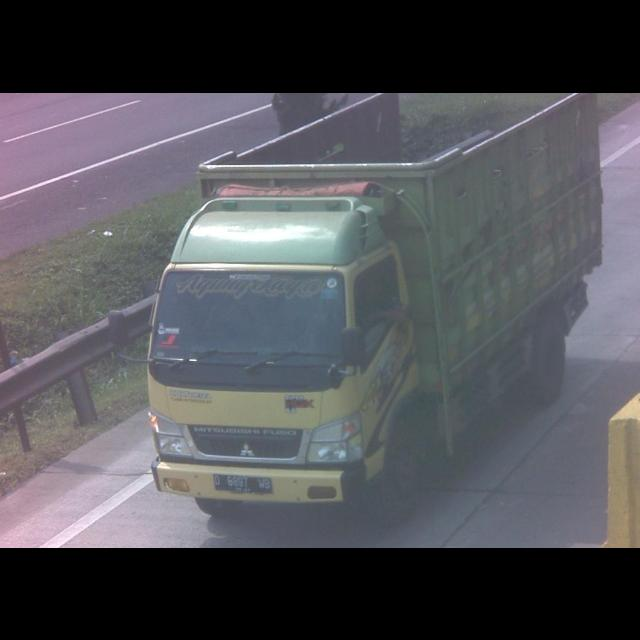plate: (213, 472, 274, 494)
